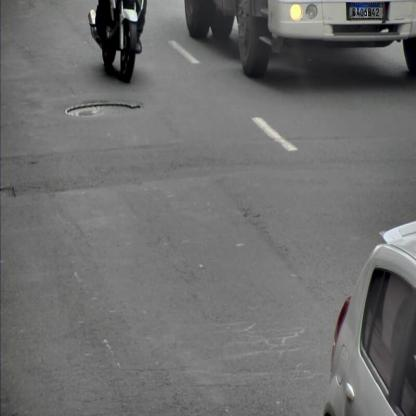PlacaM: (349, 2, 383, 18)
